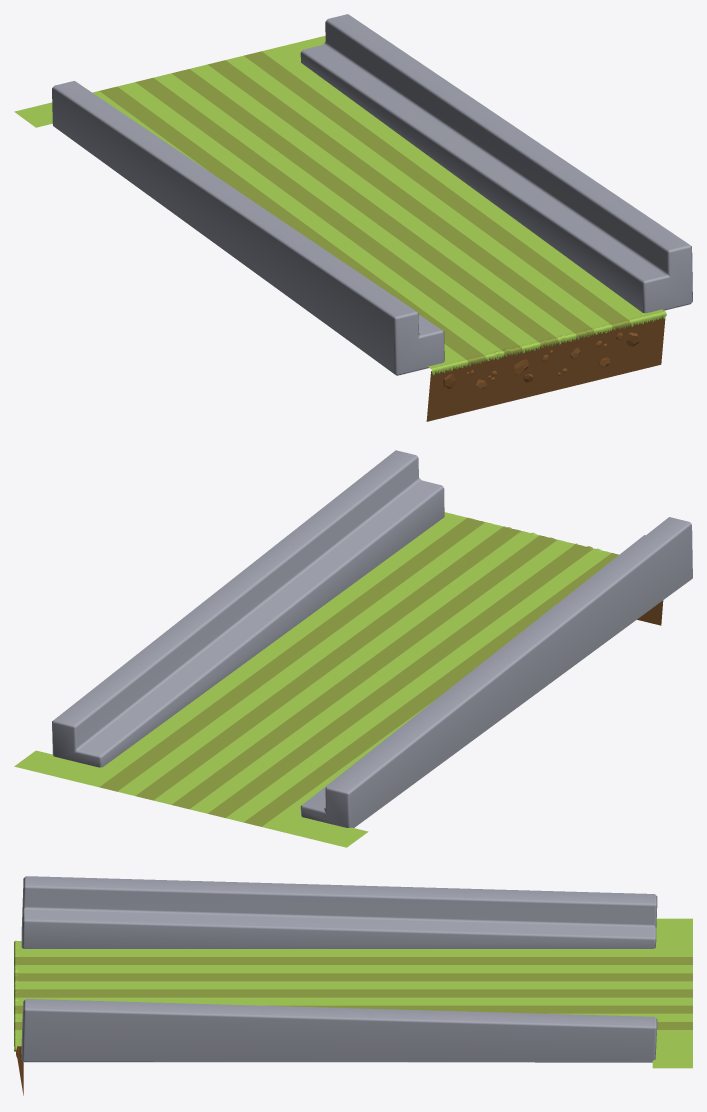
Rendered from LevelGround.fbx.
3 views of the same model, one above another, from view 1: azimuth 30°, elevation 25°; view 2: azimuth 150°, elevation 25°; view 3: azimuth 270°, elevation 25° (orthographic). The views are drawn at different scales.
Visible parts, largest first — view 1: polySurface40; view 2: polySurface40; view 3: polySurface40.
Part boxes in pixels (box(x1,y1,x2,y2)): polySurface40: box(14, 14, 692, 421); polySurface40: box(14, 450, 692, 847); polySurface40: box(14, 876, 692, 1095).
Size of the model in its own units: 111 by 35.56 by 212.
